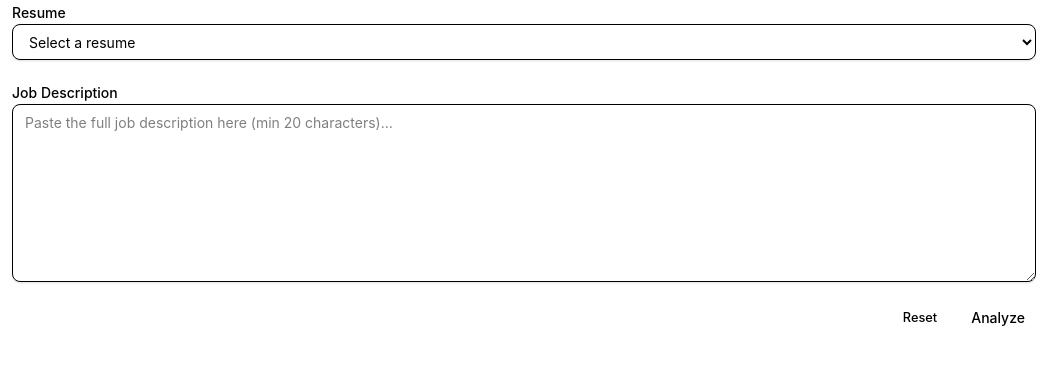
Test case: AnalyzeForm › shows validation error for short job description
Select "my-resume.pdf" in the dropdown labelled "Resume" at (524, 42), box [12,24,1036,60]
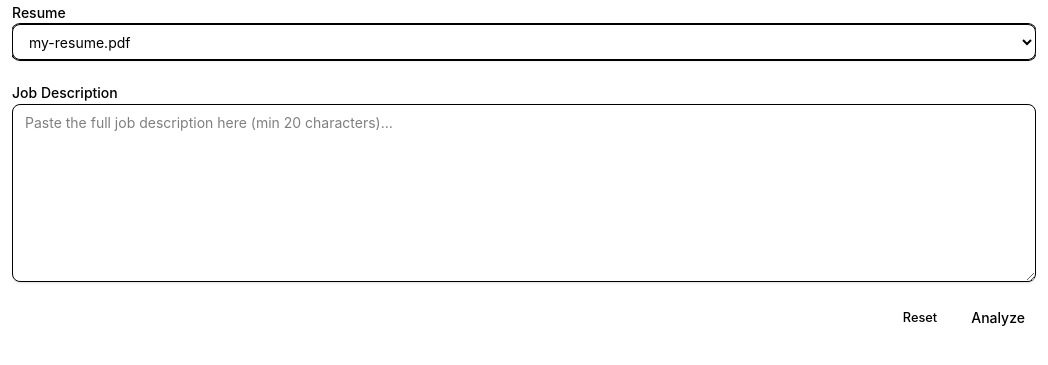
Type "too short" into the text box labelled "Job Description" at (524, 193), box [12,104,1036,282]
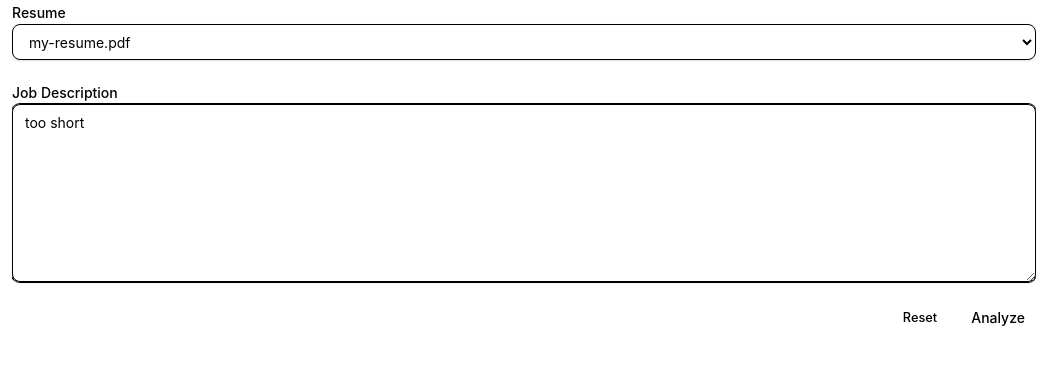
Click the button "Analyze" at (998, 318), box [960,302,1036,334]
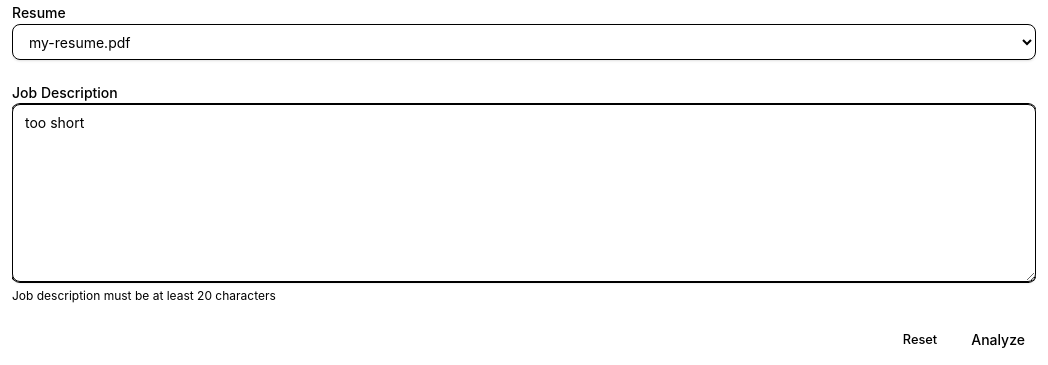
Check: the message shows "at least 20", box [12,288,276,303]
